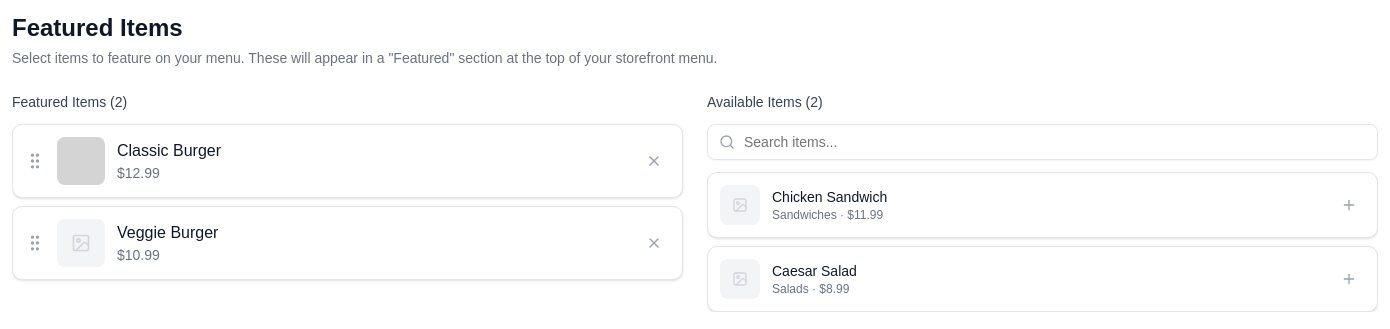
Scenario: FeaturedItemsClient › Search Functionality › should filter available items by name
Type "chicken" into the field with placeholder "Search items..." at coordinates (1042, 142), box [707, 124, 1378, 160]
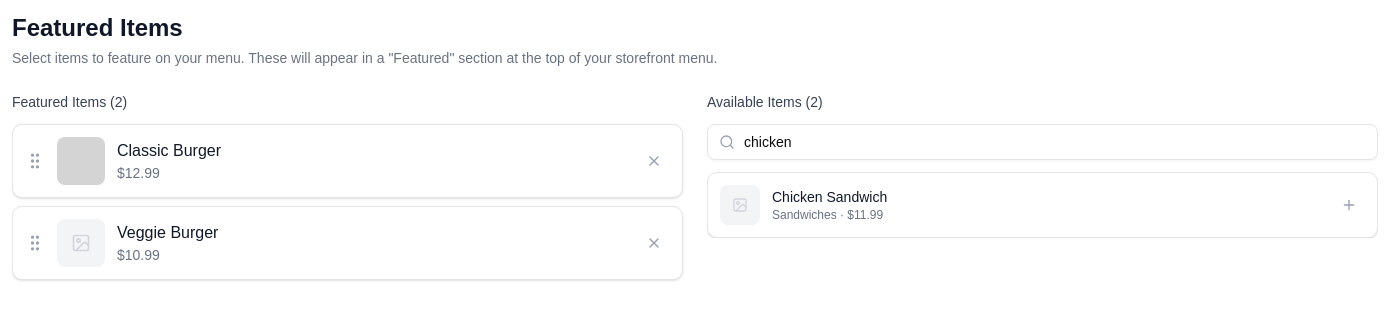
Expected: the text "Chicken Sandwich" is shown, [772, 189, 887, 205]
Expected: the text "Caesar Salad" is gone
